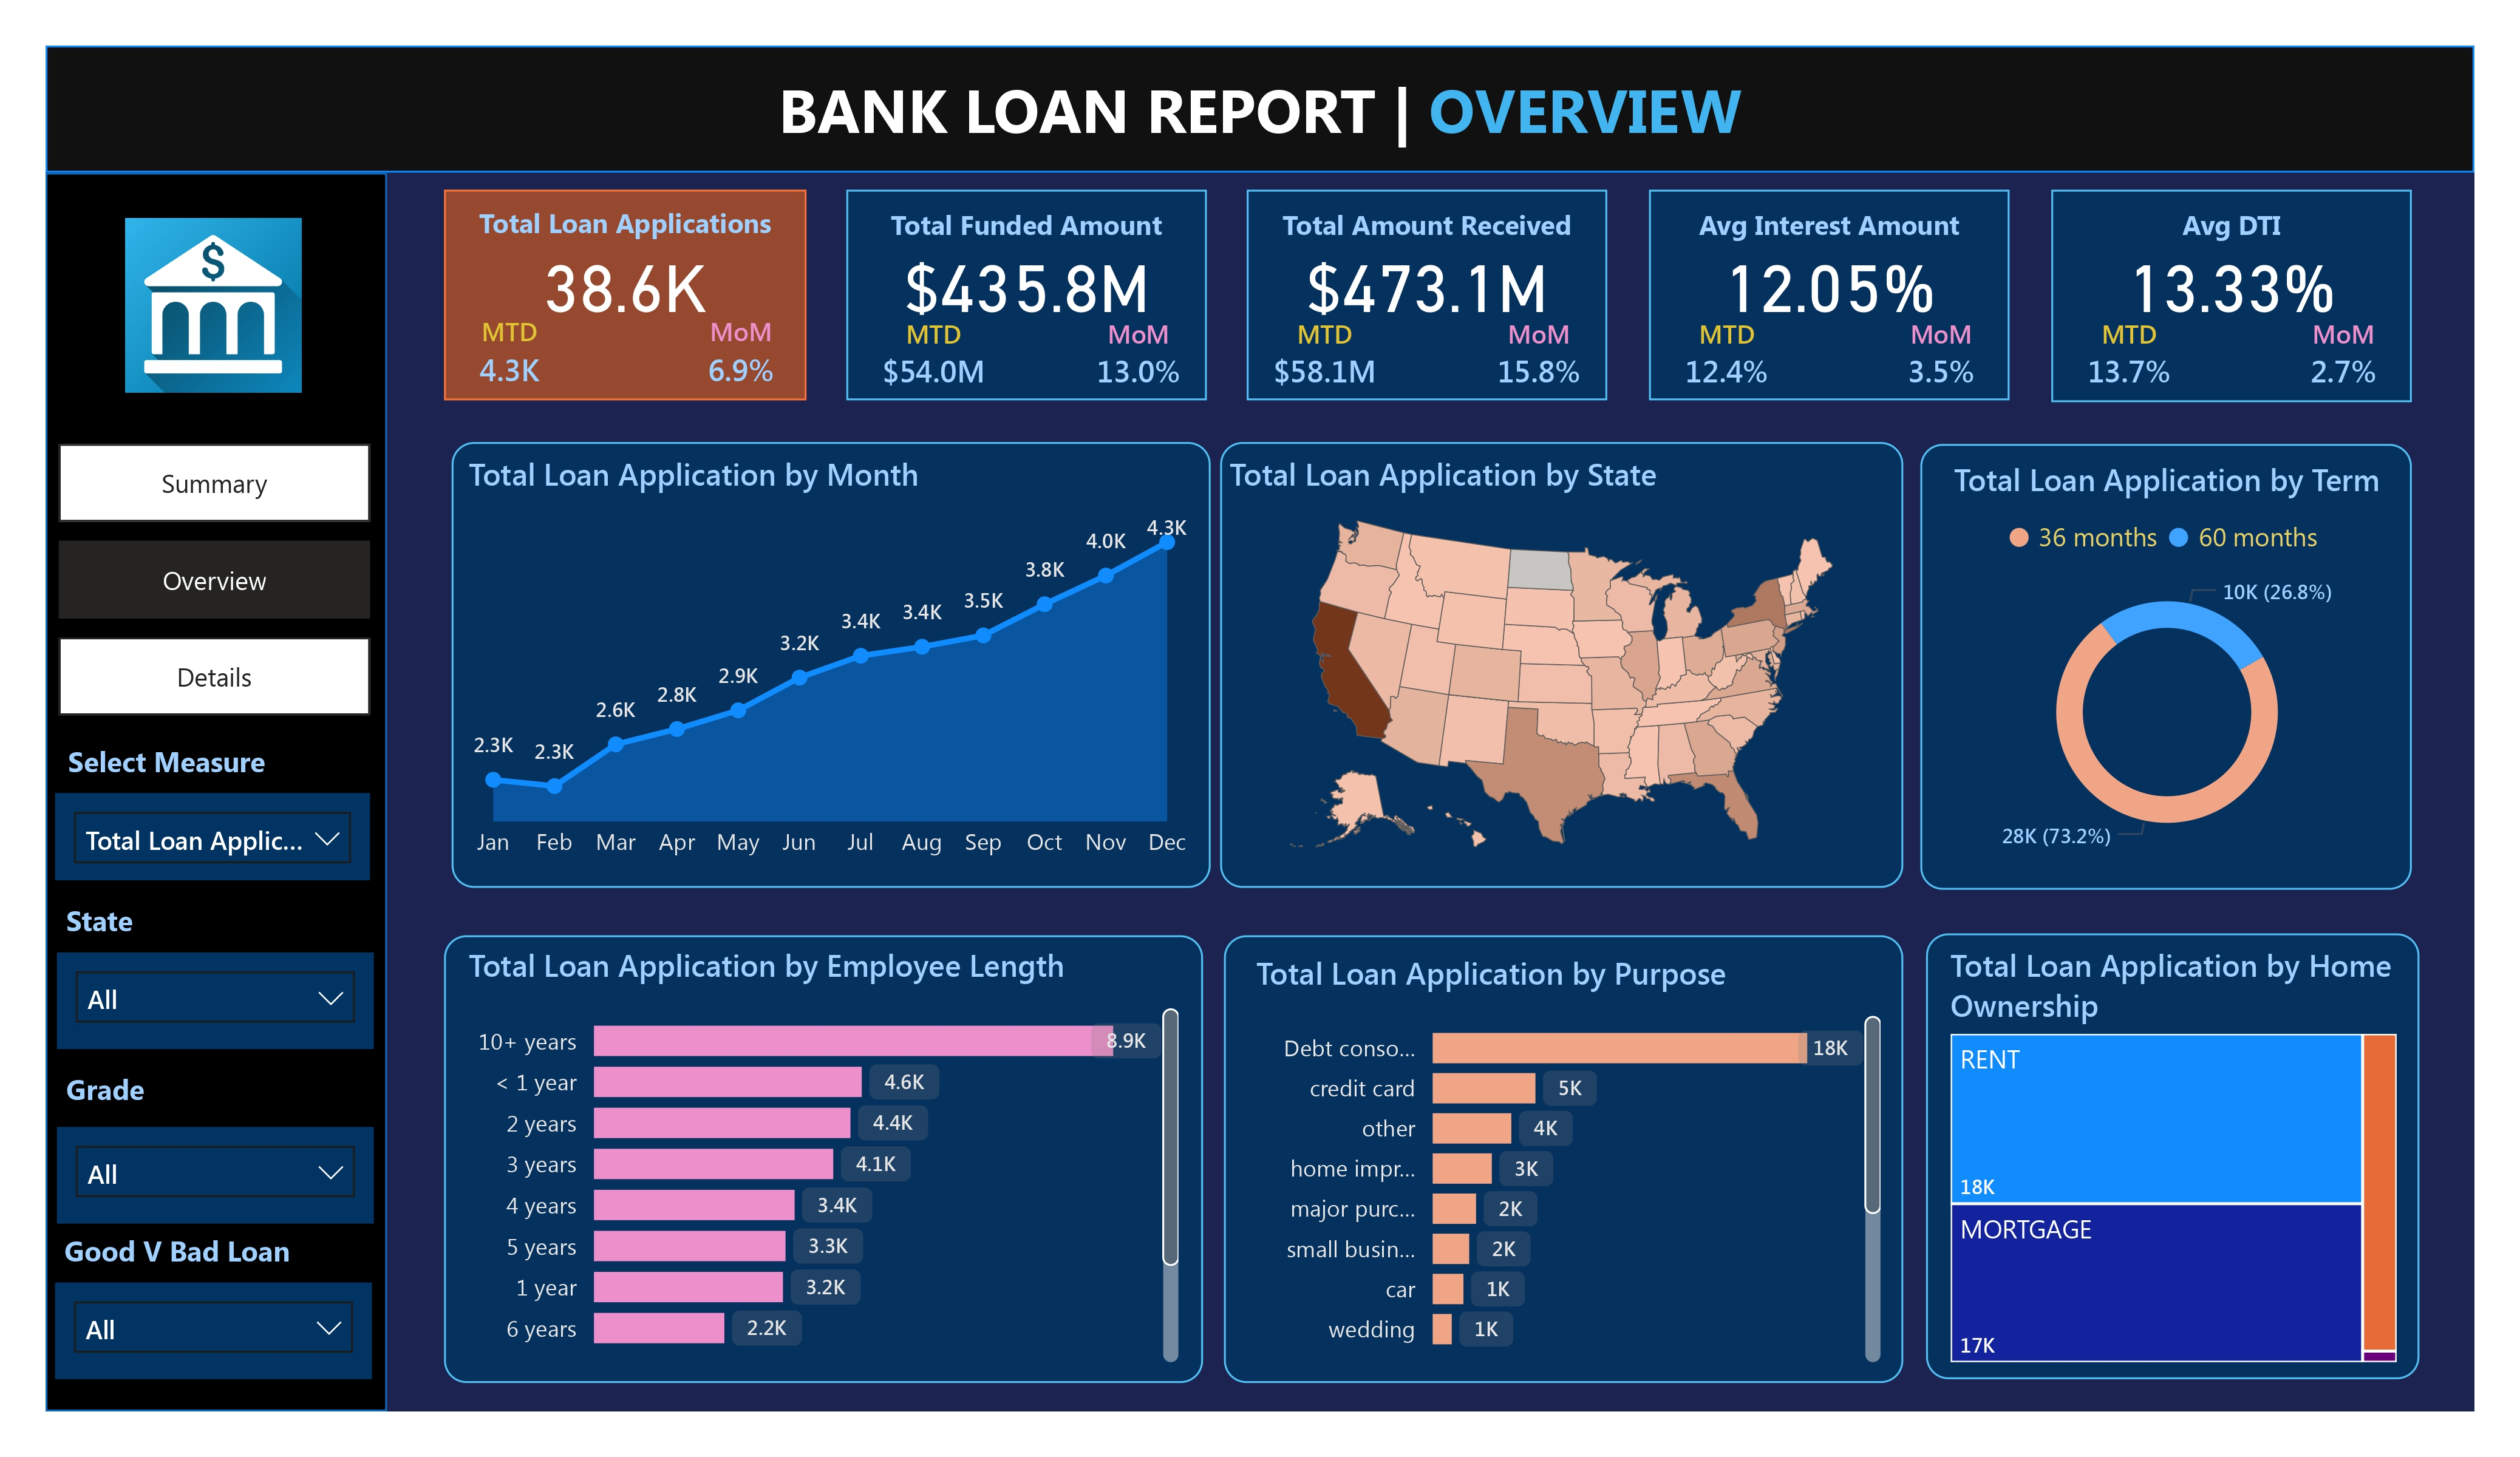

This screenshot's page, from the dashboard's own definition file:
{"tool":"powerbi","page":{"name":"Overview","canvas":[1280,720],"ordinal":1},"visuals":[{"type":"group","id":"g1","title":"Group 1","box":[0,0,1280,67.1],"z":0},{"type":"shape","box":[0,0,1280,67.1],"z":0,"group":"g1"},{"type":"shape","box":[619.5,209,360,235],"z":0,"group":"g20"},{"type":"shape","box":[988.5,210.3,259.2,235.2],"z":0,"group":"g21"},{"type":"slicer","fields":{"Values":["financial_loan.grade"]},"box":[6.1,569.5,166.7,51.2],"z":0,"group":"g8"},{"type":"slicer","fields":{"Values":["financial_loan.Good Vs Bad Laon"]},"box":[4.8,652.2,167,51],"z":0,"group":"g7"},{"type":"textbox","box":[314.3,5.7,651.4,55.7],"z":1000,"group":"g1"},{"type":"shape","box":[0,67.1,180,652.9],"z":1000},{"type":"shape","box":[214.1,209,400,235],"z":1000,"group":"g19"},{"type":"shapeMap","fields":{"Value":["financial_loan.Total Loan Application"],"Category":["financial_loan.address_state"]},"box":[619.2,215.4,360,221.9],"z":1000,"group":"g20"},{"type":"donutChart","fields":{"Y":["financial_loan.Total Loan Application"],"Category":["financial_loan.term"]},"box":[992,218.8,252.1,216.9],"z":1000,"group":"g21"},{"type":"textbox","box":[6,534.5,167,32],"z":1000,"group":"g8"},{"type":"textbox","box":[4.8,620.2,167,32],"z":1000,"group":"g7"},{"type":"group","id":"g2","title":"Group 2","box":[210.4,75.7,190.6,111.4],"z":2000},{"type":"shape","box":[210.4,75.7,190.6,111.4],"z":2000,"group":"g14"},{"type":"shape","box":[421.7,76.2,190,111.4],"z":2000,"group":"g15"},{"type":"shape","box":[633.5,76.2,190,111.4],"z":2000,"group":"g16"},{"type":"shape","box":[845.2,76.2,190,111.4],"z":2000,"group":"g17"},{"type":"shape","box":[1057,76.2,190,111.5],"z":2000,"group":"g18"},{"type":"card","fields":{"Values":["Count(financial_loan.id)"]},"box":[210.4,102.8,190.6,44.3],"z":3000,"group":"g14"},{"type":"textbox","box":[7.1,361.9,166.7,32.1],"z":3000},{"type":"textbox","box":[6,446.4,167,32],"z":3000,"group":"g9"},{"type":"group","id":"g3","title":"Group 3","box":[421.7,76.2,190,111.4],"z":4000},{"type":"textbox","box":[213.5,78.7,185.3,28.8],"z":4000,"group":"g14"},{"type":"card","fields":{"Values":["financial_loan.Total Funded Amount"]},"box":[421.7,103.3,190,44.3],"z":4000,"group":"g15"},{"type":"card","fields":{"Values":["financial_loan.Total Amount Received"]},"box":[633.5,103.3,190,44.3],"z":4000,"group":"g16"},{"type":"card","fields":{"Values":["financial_loan.Avg Intrest Rate"]},"box":[845.2,103.3,190,44.3],"z":4000,"group":"g17"},{"type":"card","fields":{"Values":["financial_loan.Avg Dti"]},"box":[1056.9,103.3,190,44.3],"z":4000,"group":"g18"},{"type":"group","id":"g4","title":"Group 3","box":[633.5,76.2,190,111.4],"z":5000},{"type":"textbox","box":[430.2,80,173.1,30],"z":5000,"group":"g15"},{"type":"textbox","box":[642,80,173.1,30],"z":5000,"group":"g16"},{"type":"textbox","box":[853.7,80,173.1,30],"z":5000,"group":"g17"},{"type":"textbox","box":[1065.4,80,173.1,30],"z":5000,"group":"g18"},{"type":"card","title":"MTD","fields":{"Values":["financial_loan.MTD Loan Application"]},"box":[218.9,141.9,51.7,45.3],"z":5000,"group":"g14"},{"type":"group","id":"g5","title":"Group 3","box":[845.2,76.2,190,111.4],"z":6000},{"type":"card","title":"MoM","fields":{"Values":["financial_loan.MoM Loan Application"]},"box":[341,141.9,51.4,45.3],"z":6000,"group":"g14"},{"type":"card","title":"MTD","fields":{"Values":["financial_loan.MTD Funeded Amount"]},"box":[430.4,143,74.6,44.6],"z":6000,"group":"g15"},{"type":"card","title":"MTD","fields":{"Values":["financial_loan.MTD Amount Received"]},"box":[641.8,143,66.2,44.6],"z":6000,"group":"g16"},{"type":"card","title":"MTD","fields":{"Values":["financial_loan.MTD Avg Int Rate"]},"box":[853.5,143,66.2,44.6],"z":6000,"group":"g17"},{"type":"card","title":"MTD","fields":{"Values":["financial_loan.MTD Avg DTI Rate"]},"box":[1065.2,143,66.2,44.6],"z":6000,"group":"g18"},{"type":"group","id":"g6","title":"Group 3","box":[1056.9,76.2,190.1,111.5],"z":7000},{"type":"card","title":"MoM","fields":{"Values":["financial_loan.MoM Funded Amount"]},"box":[548.1,143,55.4,44.6],"z":7000,"group":"g15"},{"type":"card","title":"MoM","fields":{"Values":["financial_loan.MoM Amount Received"]},"box":[759.9,143,55.4,44.6],"z":7000,"group":"g16"},{"type":"card","title":"MoM","fields":{"Values":["financial_loan.MoM Avg Int Rate"]},"box":[971.6,143,55.4,44.6],"z":7000,"group":"g17"},{"type":"card","title":"MoM","fields":{"Values":["financial_loan.MoM Avg Dti Rate"]},"box":[1183.3,143,55.4,44.6],"z":7000,"group":"g18"},{"type":"group","id":"g7","title":"Group 13","box":[4.8,620.2,167.9,82.1],"z":8000},{"type":"group","id":"g8","title":"Group 14","box":[6,534.5,166.7,85.7],"z":9000},{"type":"slicer","fields":{"Values":["financial_loan.address_state"]},"box":[6,478.4,167,51],"z":9001,"group":"g9"},{"type":"group","id":"g9","title":"Group 15","box":[6,446.4,167.9,82.1],"z":10000},{"type":"group","id":"g10","title":"Group 4","box":[421.7,76.2,190,111.4],"z":10002,"group":"g3"},{"type":"group","id":"g11","title":"Group 4","box":[633.5,76.2,190,111.4],"z":10002,"group":"g4"},{"type":"group","id":"g12","title":"Group 4","box":[845.2,76.2,190,111.4],"z":10002,"group":"g5"},{"type":"group","id":"g13","title":"Group 4","box":[1056.9,76.2,190.1,111.5],"z":10002,"group":"g6"},{"type":"group","id":"g14","title":"Group 9","box":[210.4,75.7,190.6,111.4],"z":10006,"group":"g2"},{"type":"group","id":"g15","title":"Group 8","box":[421.7,76.2,190,111.4],"z":10006,"group":"g10"},{"type":"group","id":"g16","title":"Group 7","box":[633.5,76.2,190,111.4],"z":10006,"group":"g11"},{"type":"group","id":"g17","title":"Group 6","box":[845.2,76.2,190,111.4],"z":10006,"group":"g12"},{"type":"group","id":"g18","title":"Group 5","box":[1056.9,76.2,190.1,111.5],"z":10006,"group":"g13"},{"type":"slicer","fields":{"Values":["Select Measure.Select Measure"]},"box":[4.8,394,166.7,46.4],"z":11000},{"type":"areaChart","fields":{"Y":["financial_loan.Total Loan Application"],"Category":["Date Table.Month"]},"box":[218,215.2,391.6,222.4],"z":12000,"group":"g19"},{"type":"shape","box":[210.3,469.2,400,235.9],"z":12000},{"type":"shape","box":[620.5,469.2,359,235.9],"z":13000},{"type":"shape","box":[991,467.9,260.3,234.6],"z":14000},{"type":"group","id":"g19","title":"Group 10","box":[214.1,209,400,234.6],"z":15000},{"type":"group","id":"g20","title":"Group 11","box":[619.2,209,360.3,235.9],"z":16000},{"type":"group","id":"g21","title":"Group 12","box":[988.5,210.3,259,234.6],"z":17000},{"type":"barChart","fields":{"Y":["financial_loan.Total Loan Application"],"Category":["financial_loan.emp_length"]},"box":[218.3,474.4,384.1,224.4],"z":18000},{"type":"barChart","fields":{"Y":["financial_loan.Total Loan Application"],"Category":["financial_loan.purpose"]},"box":[632.9,478,339,220.7],"z":19000},{"type":"treemap","fields":{"Values":["financial_loan.Total Loan Application"],"Group":["financial_loan.home_ownership"]},"box":[998.8,474.4,245.1,224.4],"z":20000},{"type":"pageNavigator","box":[7.1,209.5,164.3,145.2],"z":20001},{"type":"image","box":[19,85.7,139.3,102.4],"z":20002}]}

Visuals, with their boxes on the page's 1280x720 design canvas (x1, y1, x2, y2). These are canvas units, not pixel positions in the 2520x1457 screenshot, which may show the page scaled, cropped or inside an application window:
"Group 1" group: x1=0 y1=0 x2=1280 y2=67
shape: x1=0 y1=0 x2=1280 y2=67
shape: x1=620 y1=209 x2=980 y2=444
shape: x1=988 y1=210 x2=1248 y2=446
slicer - financial_loan.grade: x1=6 y1=570 x2=173 y2=621
slicer - financial_loan.Good Vs Bad Laon: x1=5 y1=652 x2=172 y2=703
textbox: x1=314 y1=6 x2=966 y2=61
shape: x1=0 y1=67 x2=180 y2=720
shape: x1=214 y1=209 x2=614 y2=444
shapeMap - financial_loan.Total Loan Application x financial_loan.address_state: x1=619 y1=215 x2=979 y2=437
donutChart - financial_loan.Total Loan Application x financial_loan.term: x1=992 y1=219 x2=1244 y2=436
textbox: x1=6 y1=534 x2=173 y2=566
textbox: x1=5 y1=620 x2=172 y2=652
"Group 2" group: x1=210 y1=76 x2=401 y2=187
shape: x1=210 y1=76 x2=401 y2=187
shape: x1=422 y1=76 x2=612 y2=188
shape: x1=634 y1=76 x2=824 y2=188
shape: x1=845 y1=76 x2=1035 y2=188
shape: x1=1057 y1=76 x2=1247 y2=188
card - Count(financial_loan.id): x1=210 y1=103 x2=401 y2=147
textbox: x1=7 y1=362 x2=174 y2=394
textbox: x1=6 y1=446 x2=173 y2=478
"Group 3" group: x1=422 y1=76 x2=612 y2=188
textbox: x1=214 y1=79 x2=399 y2=108
card - financial_loan.Total Funded Amount: x1=422 y1=103 x2=612 y2=148
card - financial_loan.Total Amount Received: x1=634 y1=103 x2=824 y2=148
card - financial_loan.Avg Intrest Rate: x1=845 y1=103 x2=1035 y2=148
card - financial_loan.Avg Dti: x1=1057 y1=103 x2=1247 y2=148
"Group 3" group: x1=634 y1=76 x2=824 y2=188
textbox: x1=430 y1=80 x2=603 y2=110
textbox: x1=642 y1=80 x2=815 y2=110
textbox: x1=854 y1=80 x2=1027 y2=110
textbox: x1=1065 y1=80 x2=1238 y2=110
"MTD" card: x1=219 y1=142 x2=271 y2=187
"Group 3" group: x1=845 y1=76 x2=1035 y2=188
"MoM" card: x1=341 y1=142 x2=392 y2=187
"MTD" card: x1=430 y1=143 x2=505 y2=188
"MTD" card: x1=642 y1=143 x2=708 y2=188
"MTD" card: x1=854 y1=143 x2=920 y2=188
"MTD" card: x1=1065 y1=143 x2=1131 y2=188
"Group 3" group: x1=1057 y1=76 x2=1247 y2=188
"MoM" card: x1=548 y1=143 x2=604 y2=188
"MoM" card: x1=760 y1=143 x2=815 y2=188
"MoM" card: x1=972 y1=143 x2=1027 y2=188
"MoM" card: x1=1183 y1=143 x2=1239 y2=188
"Group 13" group: x1=5 y1=620 x2=173 y2=702
"Group 14" group: x1=6 y1=534 x2=173 y2=620
slicer - financial_loan.address_state: x1=6 y1=478 x2=173 y2=529
"Group 15" group: x1=6 y1=446 x2=174 y2=528
"Group 4" group: x1=422 y1=76 x2=612 y2=188
"Group 4" group: x1=634 y1=76 x2=824 y2=188
"Group 4" group: x1=845 y1=76 x2=1035 y2=188
"Group 4" group: x1=1057 y1=76 x2=1247 y2=188
"Group 9" group: x1=210 y1=76 x2=401 y2=187
"Group 8" group: x1=422 y1=76 x2=612 y2=188
"Group 7" group: x1=634 y1=76 x2=824 y2=188
"Group 6" group: x1=845 y1=76 x2=1035 y2=188
"Group 5" group: x1=1057 y1=76 x2=1247 y2=188
slicer - Select Measure.Select Measure: x1=5 y1=394 x2=172 y2=440
areaChart - financial_loan.Total Loan Application x Date Table.Month: x1=218 y1=215 x2=610 y2=438
shape: x1=210 y1=469 x2=610 y2=705
shape: x1=620 y1=469 x2=980 y2=705
shape: x1=991 y1=468 x2=1251 y2=702
"Group 10" group: x1=214 y1=209 x2=614 y2=444
"Group 11" group: x1=619 y1=209 x2=980 y2=445
"Group 12" group: x1=988 y1=210 x2=1248 y2=445
barChart - financial_loan.Total Loan Application x financial_loan.emp_length: x1=218 y1=474 x2=602 y2=699
barChart - financial_loan.Total Loan Application x financial_loan.purpose: x1=633 y1=478 x2=972 y2=699
treemap - financial_loan.Total Loan Application x financial_loan.home_ownership: x1=999 y1=474 x2=1244 y2=699
pageNavigator: x1=7 y1=210 x2=171 y2=355
image: x1=19 y1=86 x2=158 y2=188
